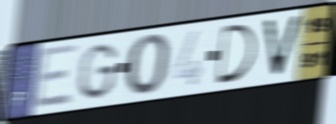4: (173, 27, 204, 90)
D: (216, 22, 259, 87)
E: (32, 42, 80, 113)
G: (74, 41, 120, 102)
O: (125, 32, 173, 99)
V: (260, 13, 305, 80)
